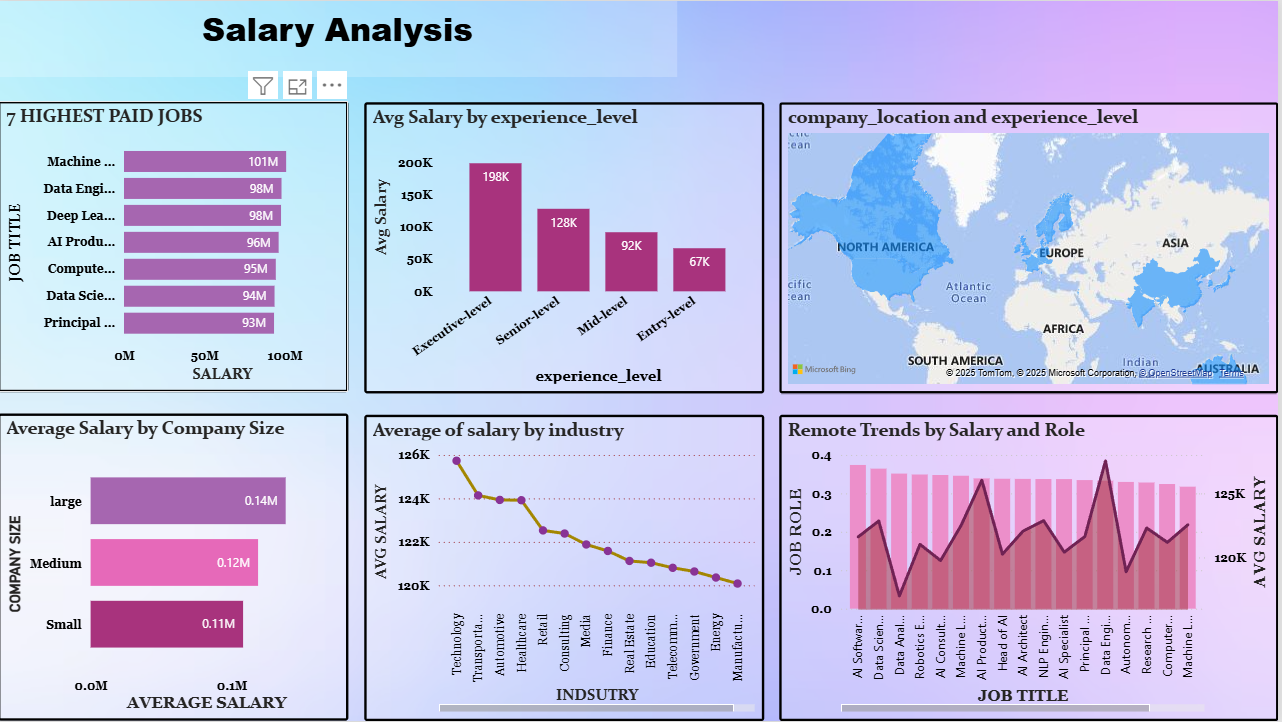

This screenshot's page, from the dashboard's own definition file:
{"tool":"powerbi","page":{"name":"salary analysis","canvas":[1280,720],"ordinal":1},"visuals":[{"type":"clusteredBarChart","title":"7 HIGHEST PAID JOBS","fields":{"Category":["dim_job_title.job_title"],"Y":["Sum(ai_job_dataset1.salary_usd)"]},"box":[0,100,350,291.4],"z":0},{"type":"barChart","title":"Average Salary by Company Size","fields":{"Category":["ai_job_dataset1.company_size"],"Y":["Avg(ai_job_dataset1.salary_usd)"]},"box":[0,412.9,350,307.1],"z":1000},{"type":"clusteredColumnChart","fields":{"Category":["ai_job_dataset1.experience_level"],"Y":["ai_job_dataset1.Avg Salary"]},"box":[366.2,100.7,399.8,291.5],"z":2000},{"type":"filledMap","fields":{"Category":["ai_job_dataset1.company_location"],"Series":["Dim_ExperienceLevel.experience_level"]},"box":[781.3,100.7,499,291.5],"z":3000},{"type":"lineChart","title":"Average of salary by industry","fields":{"Y":["Avg(ai_job_dataset1.salary_usd)"],"Category":["Dim_Industry.industry"]},"box":[366.2,413.5,399.8,306.7],"z":4000},{"type":"lineClusteredColumnComboChart","title":"Remote Trends by Salary and Role","fields":{"Y":["ai_job_dataset1.Percent Remote Jobs"],"Category":["dim_job_title.job_title"],"Y2":["ai_job_dataset1.Avg Salary"]},"box":[781.3,413.5,499,306.7],"z":5000},{"type":"textbox","box":[0,0,678.9,76.3],"z":6000}]}

Visuals, with their boxes in screenshot pixels (x1, y1, x2, y2), scaled from the page's 1280x720 canvas onto the 1282x722 screenshot:
"7 HIGHEST PAID JOBS" clusteredBarChart: 0, 100, 351, 392
"Average Salary by Company Size" barChart: 0, 414, 351, 721
clusteredColumnChart - ai_job_dataset1.experience_level x ai_job_dataset1.Avg Salary: 367, 101, 767, 393
filledMap - ai_job_dataset1.company_location x Dim_ExperienceLevel.experience_level: 783, 101, 1281, 393
"Average of salary by industry" lineChart: 367, 415, 767, 721
"Remote Trends by Salary and Role" lineClusteredColumnComboChart: 783, 415, 1281, 721
textbox: 0, 0, 680, 77
